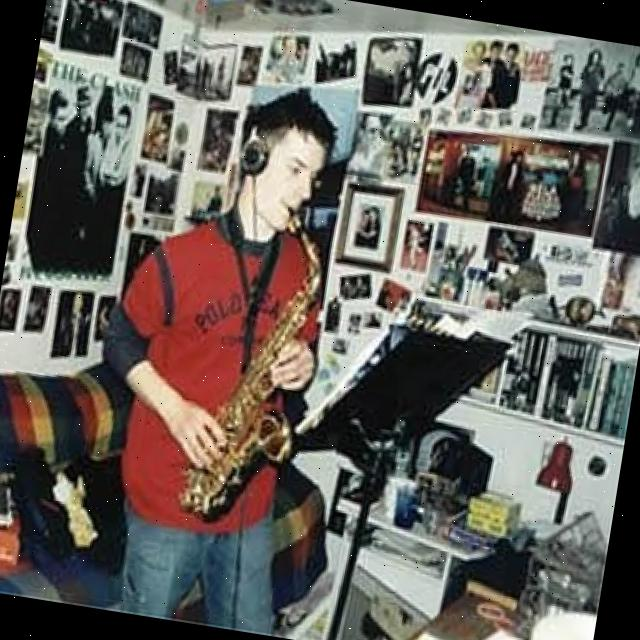saxophone: (175, 196, 338, 533)
